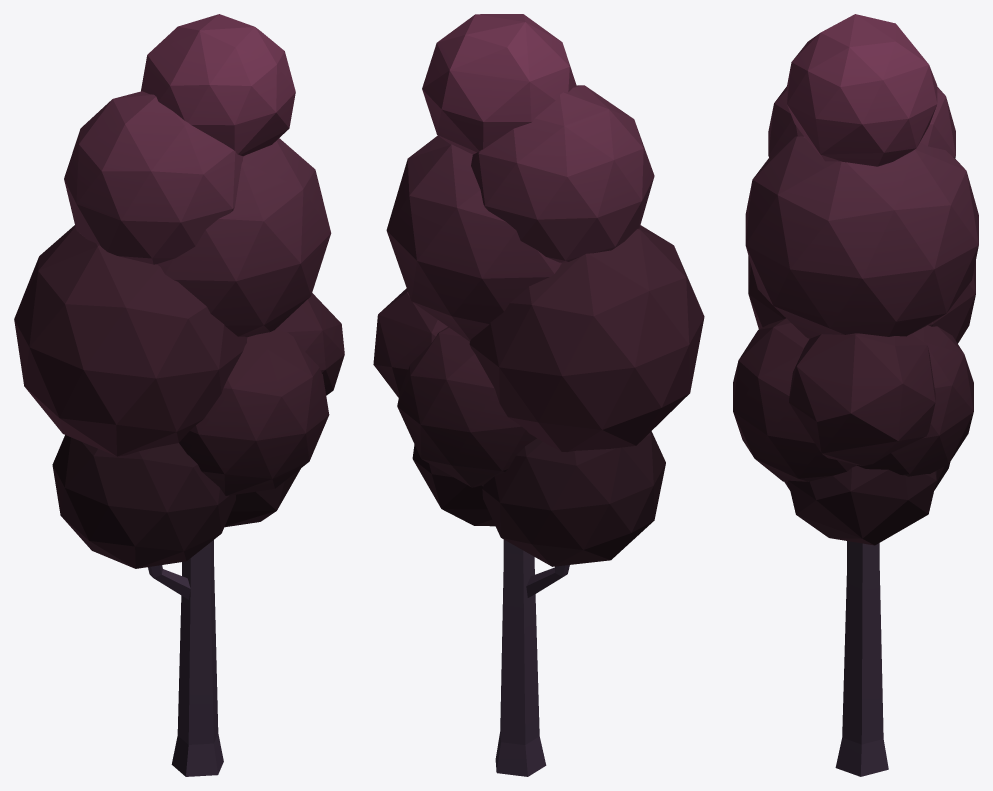
Rendered from tree_oak1.fbx.
3 views of the same model, side by side, from view 1: azimuth 30°, elevation 25°; view 2: azimuth 150°, elevation 25°; view 3: azimuth 270°, elevation 25° (orthographic).
Visible parts, largest first — view 1: tree_oak1; view 2: tree_oak1; view 3: tree_oak1.
Part boxes in pixels (x1,y1,x2,y2): tree_oak1: (14,14,344,776); tree_oak1: (373,14,704,776); tree_oak1: (733,14,978,776).
Size of the model in its own units: 142 by 327 by 97.33.
